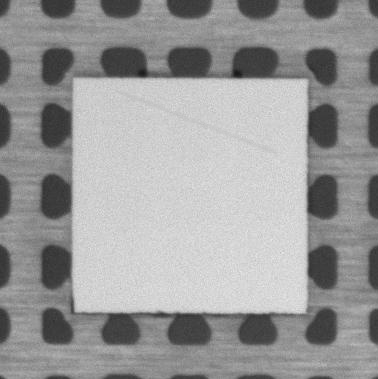DIE_CRACK: (117, 91, 276, 153)
